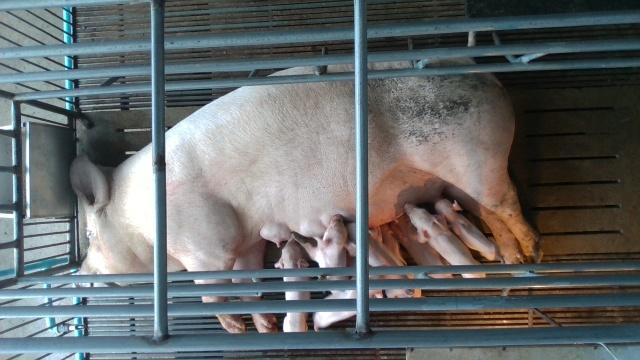piglet: (404, 204, 485, 278), (345, 221, 421, 297), (292, 214, 356, 294), (435, 198, 505, 264), (390, 215, 454, 279), (314, 274, 384, 331), (275, 235, 311, 332)
sow-sleep-lactate: (70, 52, 543, 334)
